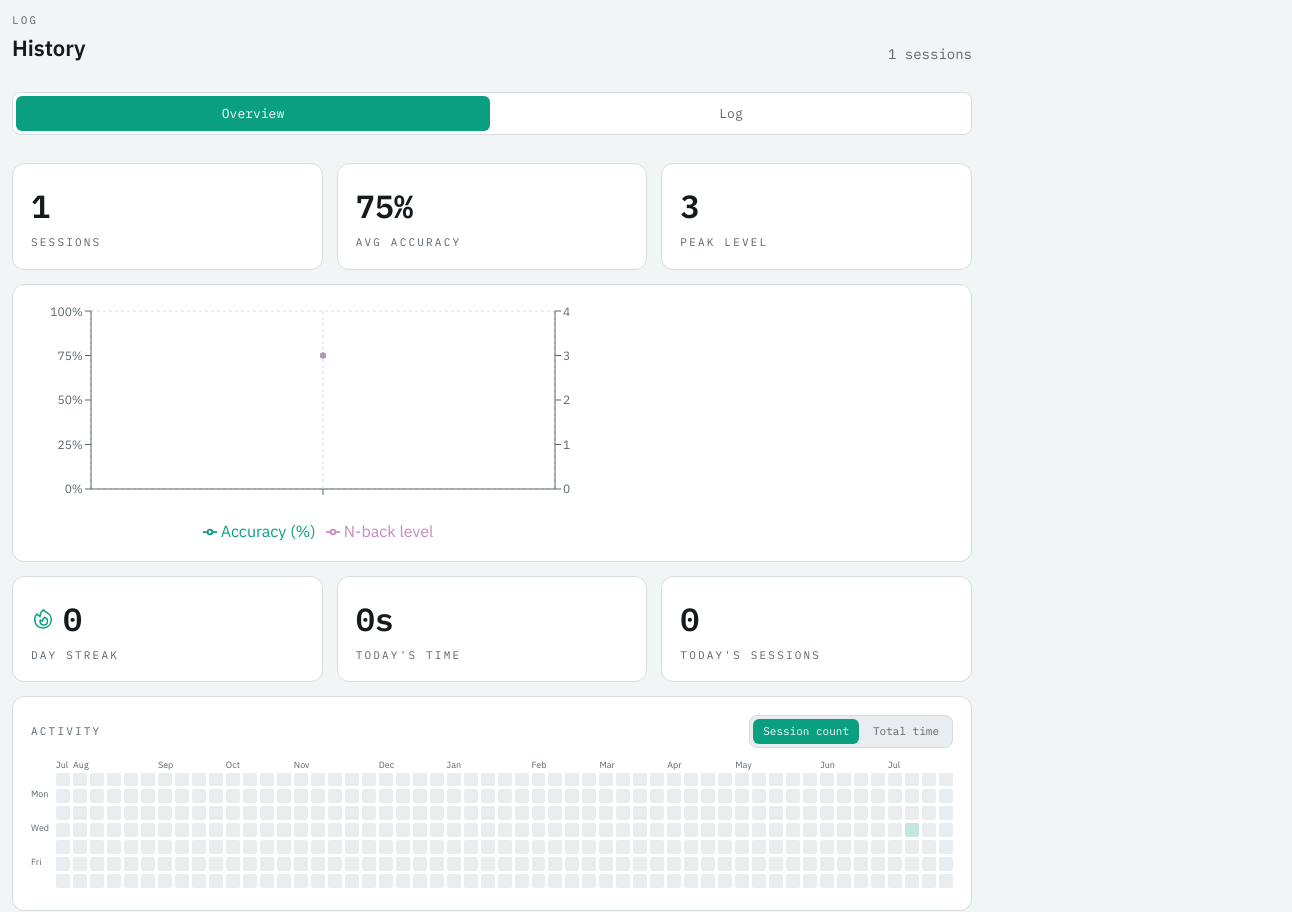
Test: HistoryView › renders recorded sessions as a table with the session count in the header
Step 1. Click the tab "Log" → click(731, 113), box [494,96,968,131]
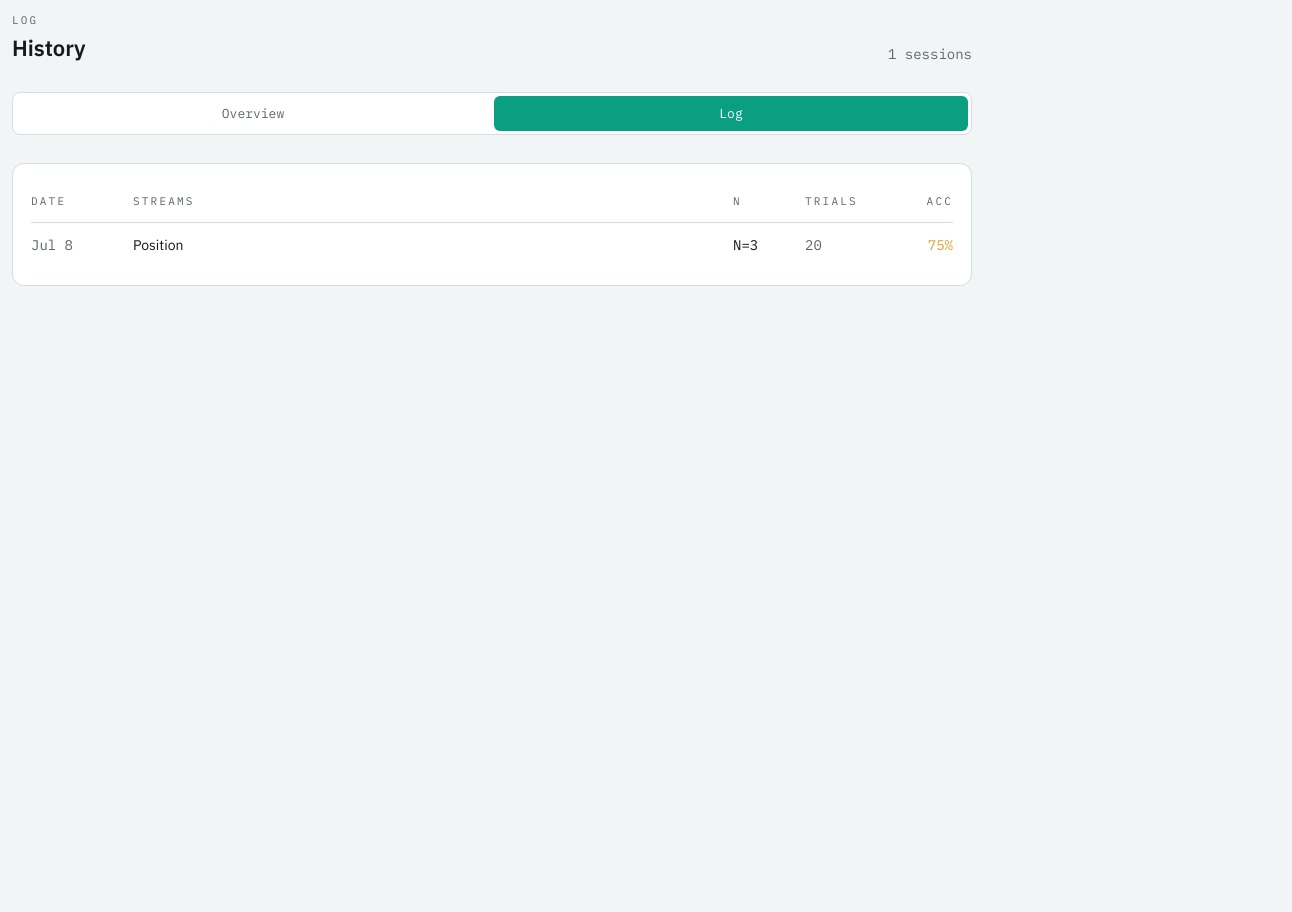
Expected: the table is shown, [31,182,953,267]
Expected: the column heading "Date" is shown, [31,194,66,208]
Expected: the column heading "Streams" is shown, [133,194,195,208]
